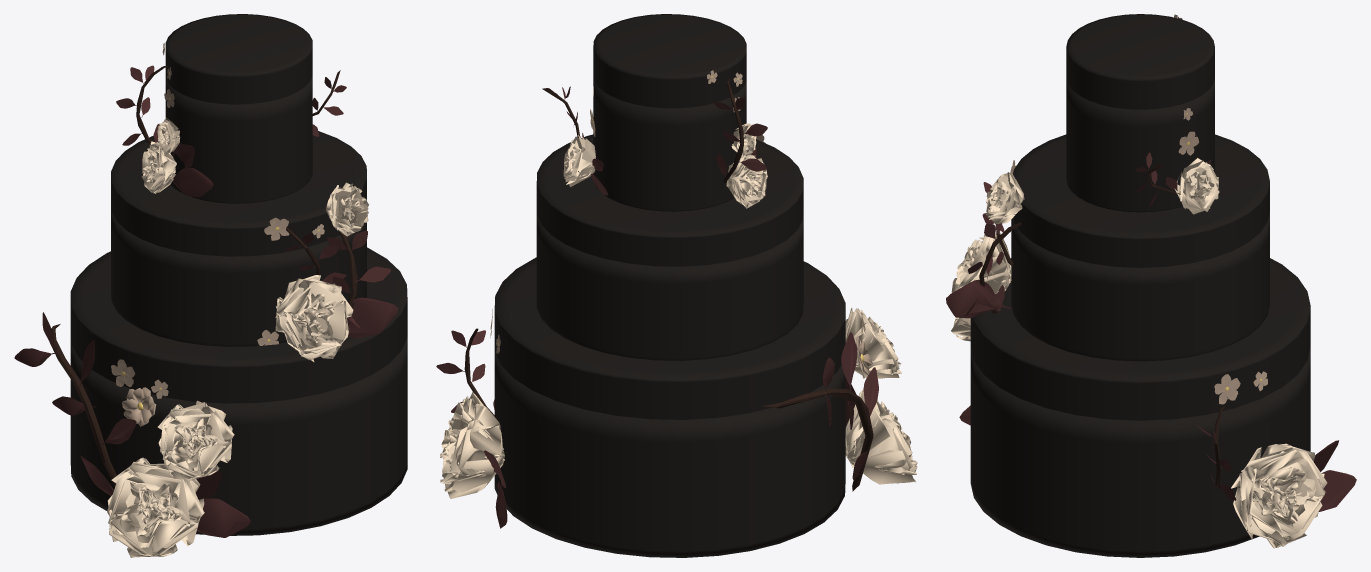
File: 3-tier-black-roses-none.glb
3 views of the same model, side by side, from view 1: azimuth 30°, elevation 25°; view 2: azimuth 150°, elevation 25°; view 3: azimuth 270°, elevation 25° (orthographic). The views are drawn at different scales.
Visible parts, largest first — view 1: Cylinder.022, Cylinder.014, Cylinder.021, grid.042, grid.044, grid.040, Plane.093, grid.043, Plane.087, Plane.091, Plane.095, grid.045 (+7 smaller); view 2: Cylinder.022, Cylinder.014, Cylinder.021, grid.029, grid.042, Plane.093, grid.040, grid.045, Plane.092, grid.047, Plane.084; view 3: Cylinder.022, Cylinder.014, Cylinder.021, grid.029, grid.044, grid.047, Plane.087, grid.043, Plane.095, Plane.082, Plane.084, Plane.078 (+1 smaller).
Part boxes in pixels (<box>): Cylinder.022: <box>70,247,407,535</box>; Cylinder.014: <box>111,131,366,346</box>; Cylinder.021: <box>165,14,312,203</box>; grid.042: <box>107,457,204,557</box>; grid.044: <box>275,275,353,362</box>; grid.040: <box>157,400,234,481</box>; Plane.093: <box>14,312,136,495</box>; grid.043: <box>326,182,368,236</box>; Plane.087: <box>347,297,398,338</box>; Plane.091: <box>197,498,250,537</box>; Plane.095: <box>327,230,390,328</box>; grid.045: <box>141,141,176,193</box>; Cylinder.022: <box>494,257,845,557</box>; Cylinder.014: <box>536,134,803,360</box>; Cylinder.021: <box>593,14,746,211</box>; grid.029: <box>440,392,504,498</box>; grid.042: <box>845,388,917,484</box>; Plane.093: <box>761,332,878,491</box>; grid.040: <box>845,308,901,378</box>; grid.045: <box>726,155,767,208</box>; Plane.092: <box>713,78,767,183</box>; grid.047: <box>563,135,595,186</box>; Plane.084: <box>436,328,494,416</box>; Cylinder.022: <box>970,258,1310,557</box>; Cylinder.014: <box>1011,134,1269,361</box>; Cylinder.021: <box>1066,14,1214,212</box>; grid.029: <box>1231,443,1327,548</box>; grid.044: <box>951,232,1011,293</box>; grid.047: <box>1174,158,1219,214</box>; Plane.087: <box>946,279,1010,318</box>; grid.043: <box>986,172,1024,223</box>; Plane.095: <box>965,222,1021,316</box>; Plane.082: <box>1318,470,1356,511</box>; Plane.084: <box>1196,405,1236,500</box>; Plane.078: <box>1135,152,1180,207</box>.
Size of the model in its own units: 5.28 by 5.83 by 4.9.
